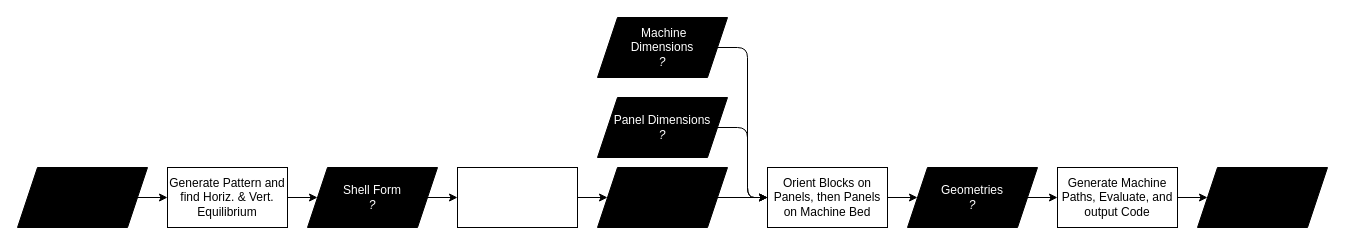
Some shapes in this 1345 by 245 pixel diagram are drawn without their labels. The shapes that lost their labels are listed below. From the top down, each one's box as (x1, y1, x2, y2) in pixels, then its label:
(16, 166, 148, 228): Create a Surface
(456, 166, 578, 228): Discretize into Blocks
(596, 166, 728, 228): Blocks ?
(1196, 166, 1328, 228): Machine Code ?
